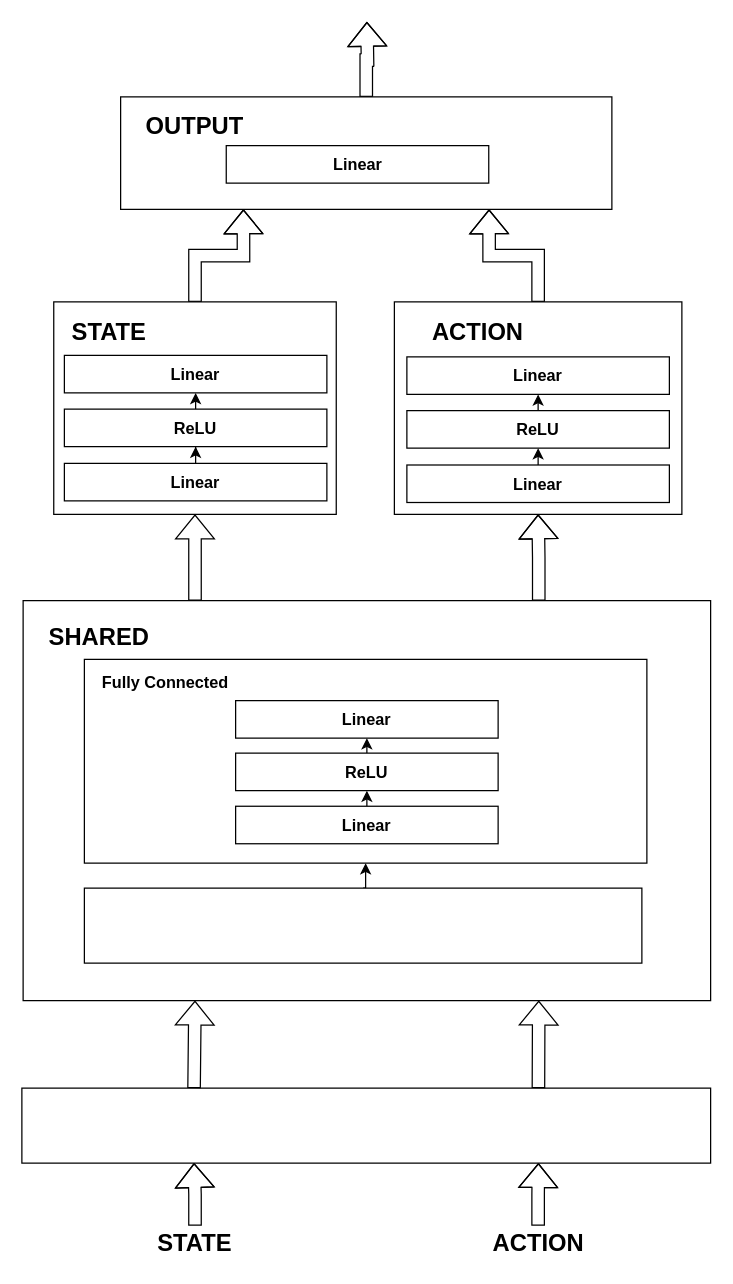
This 733x1284 diagram has some shape labels left out. Each missing label, with the centre of its shape:
BERT (Embeddings + Encoder + Pooler): (362,925)
TOKENIZER: (366,1125)
